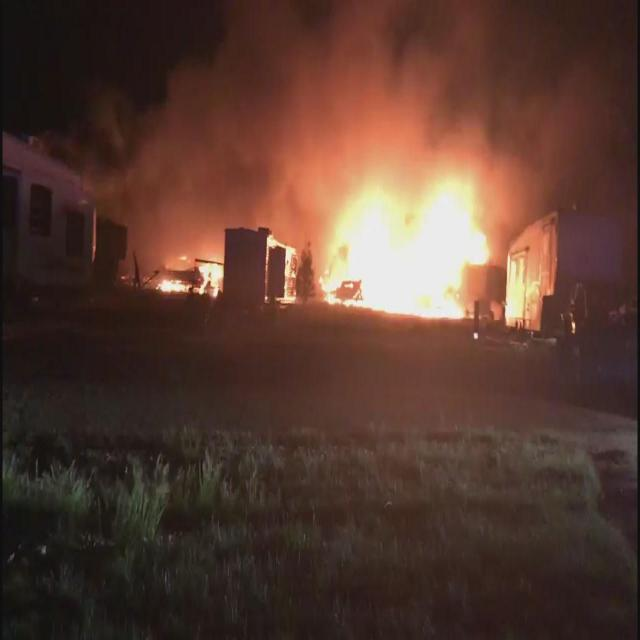fire: (309, 179, 491, 323)
